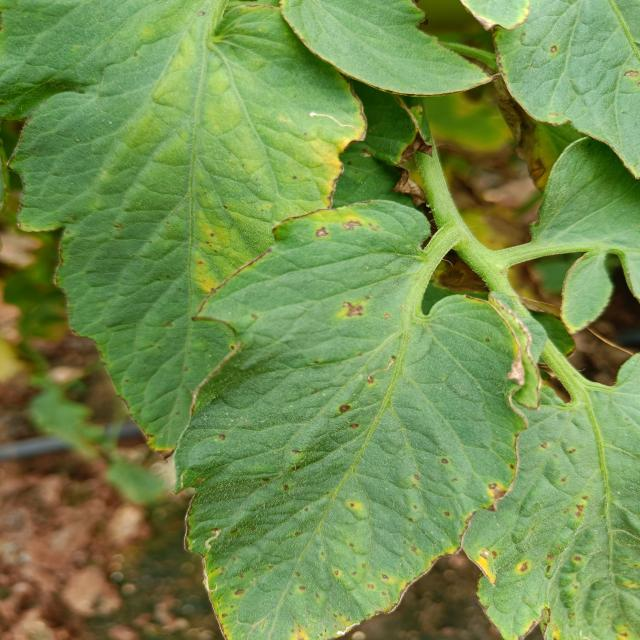Tomato mosaic virus leaf: (169, 344, 525, 640), (168, 146, 402, 332), (470, 492, 640, 640), (492, 23, 640, 184)
